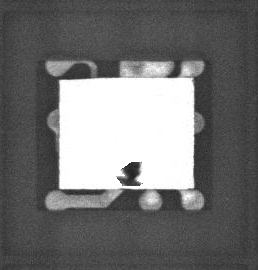DIE_INK: (111, 170, 136, 194)
